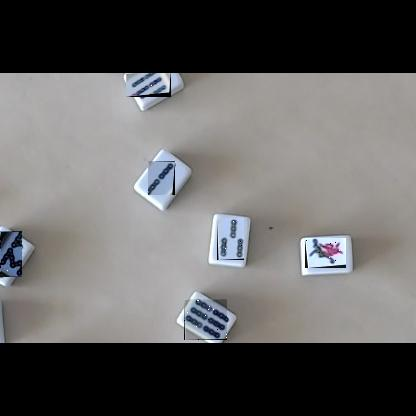1s: (305, 238, 346, 268)
2s: (148, 161, 175, 195)
3s: (217, 218, 244, 260)
6s: (184, 299, 227, 340)
7s: (126, 73, 171, 97)
8s: (0, 231, 22, 277)
